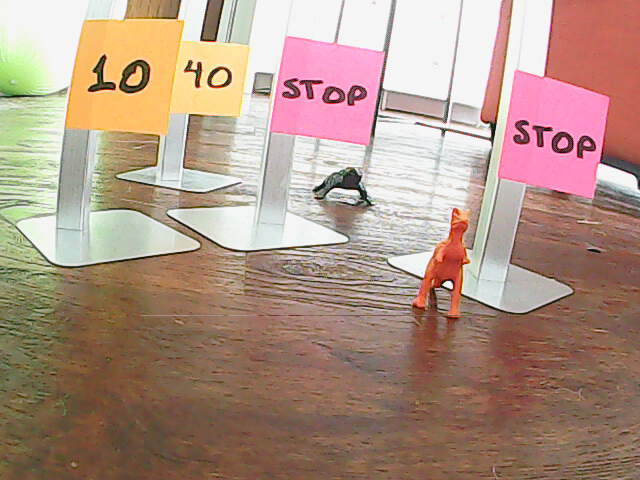10: (75, 25, 171, 128)
40: (175, 46, 243, 113)
dinosaur: (404, 201, 477, 325)
stop: (278, 49, 375, 130), (507, 98, 598, 177)
turtle: (309, 162, 375, 204)
